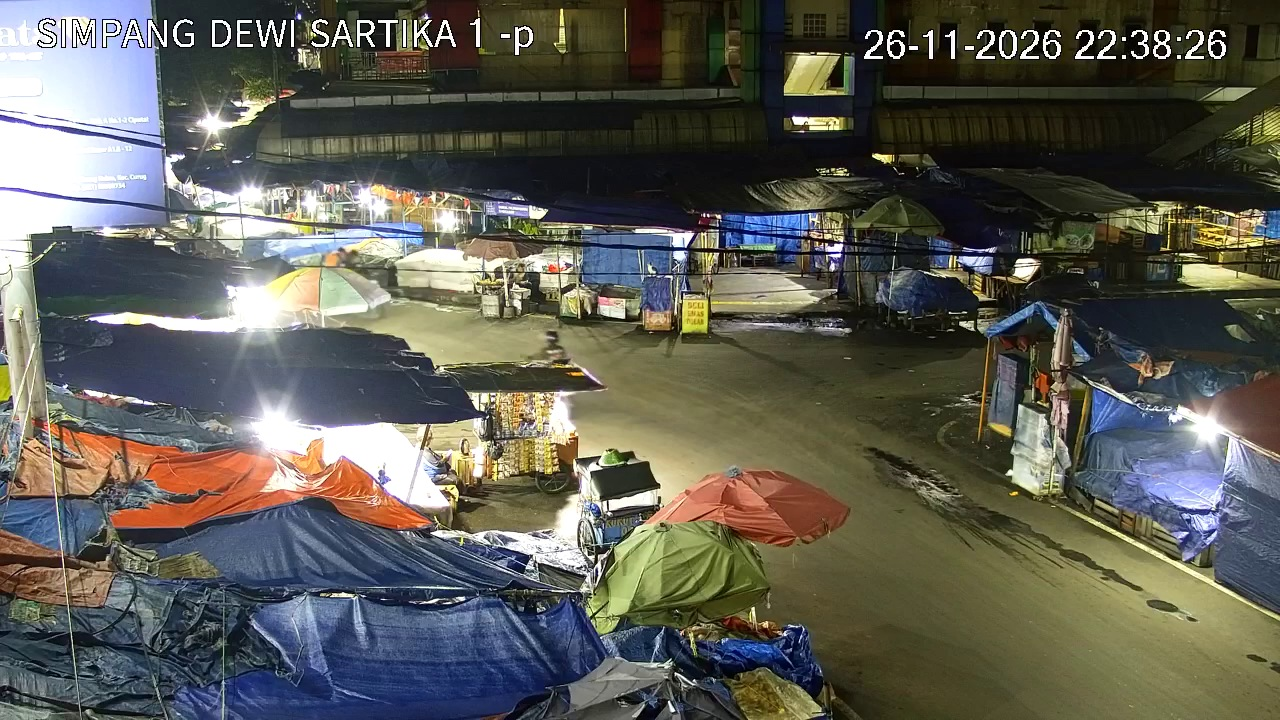Gerobak: (454, 361, 604, 493), (572, 448, 662, 563)
